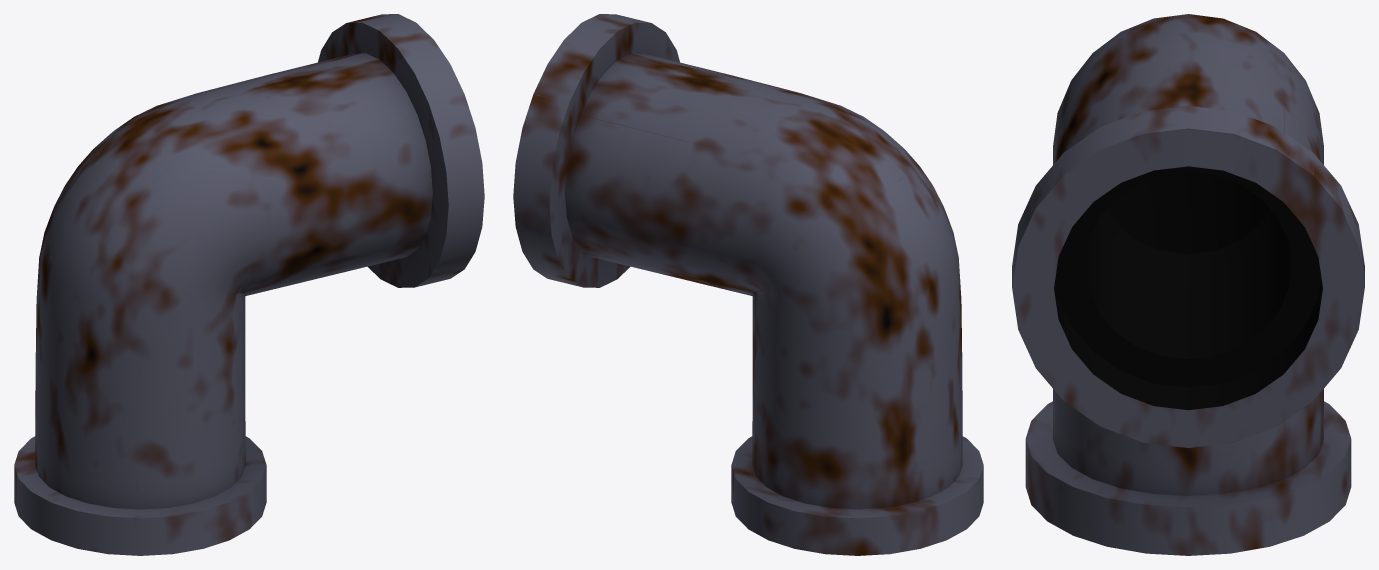
Rendered from PipeBend.fbx.
3 renders of one model, left to right at view 1: azimuth 30°, elevation 25°; view 2: azimuth 150°, elevation 25°; view 3: azimuth 270°, elevation 25°, orthographic. The views are drawn at different scales.
Parts seen in each view (by area): view 1: PipeGay; view 2: PipeGay; view 3: PipeGay.
Part boxes in pixels (x1,y1,x2,y2): PipeGay: [14, 14, 484, 555]; PipeGay: [513, 14, 983, 555]; PipeGay: [1012, 14, 1364, 555].
Size of the model in its own units: 321 by 329 by 197.
Materials: 2 (1 with a texture image).
